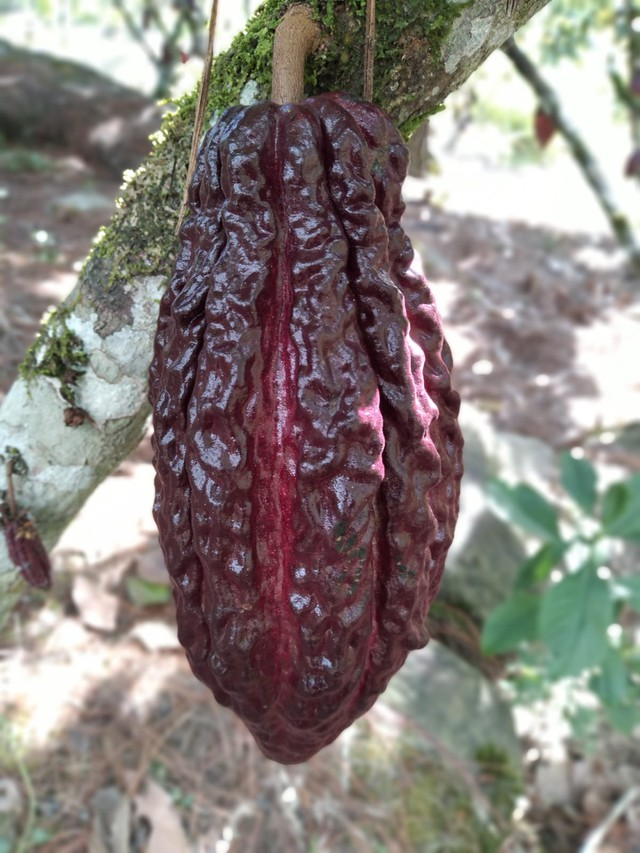Health: (144, 94, 473, 772)
